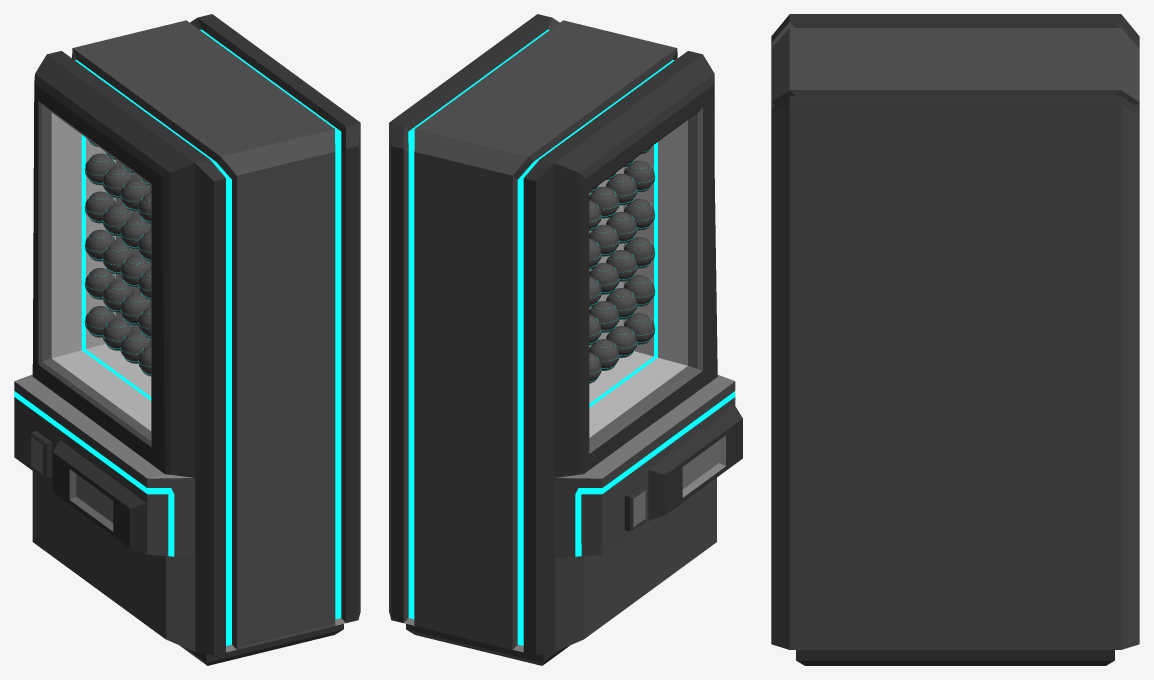
File: SM_GashaPon.fbx
The picture shows the model from 3 angles, left to right: view 1: azimuth 30°, elevation 25°; view 2: azimuth 150°, elevation 25°; view 3: azimuth 270°, elevation 25°; orthographic projection. The views are drawn at different scales.
Visible parts, largest first — view 1: SM_Gasha, SM_SphereCH, SM_GashaButton; view 2: SM_Gasha, SM_SphereCH, SM_GashaButton; view 3: SM_Gasha.
Part boxes in pixels (x1=…): SM_Gasha: x1=14, y1=14, x2=360, y2=665; SM_SphereCH: x1=84, y1=138, x2=151, y2=376; SM_GashaButton: x1=31, y1=431, x2=51, y2=477; SM_Gasha: x1=389, y1=14, x2=742, y2=665; SM_SphereCH: x1=589, y1=146, x2=655, y2=383; SM_GashaButton: x1=624, y1=484, x2=645, y2=531; SM_Gasha: x1=771, y1=14, x2=1139, y2=665.
Bounding box in the file's own units: 193 × 435 × 253.
